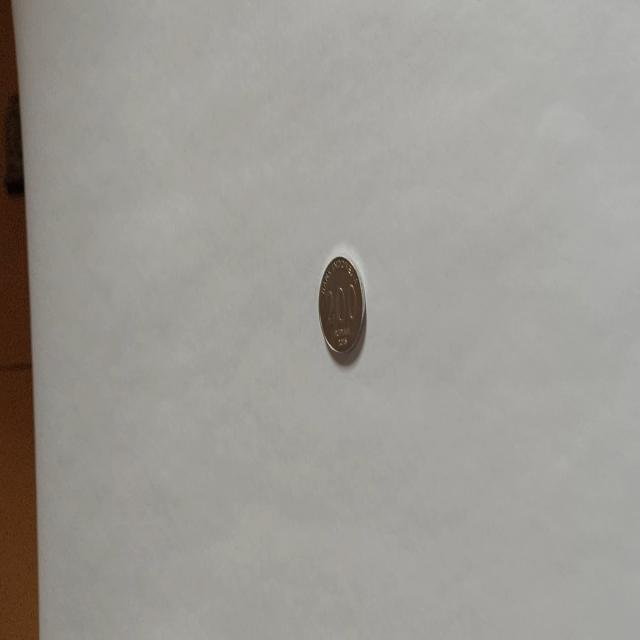dua ratus rupiah: (316, 254, 366, 358)
